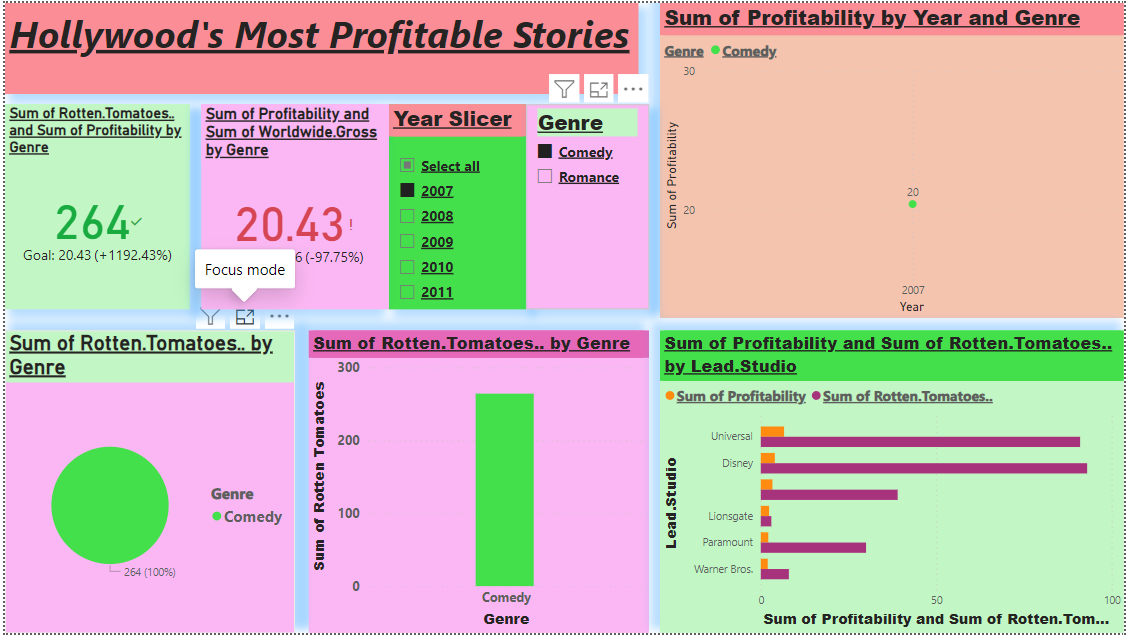

What the dashboard file says about the page in this screenshot:
{"tool":"powerbi","page":{"name":"Hollywoods Most Profitable Stories","canvas":[1280,720],"ordinal":0},"visuals":[{"type":"clusteredColumnChart","fields":{"Category":["clean_df.Genre"],"Y":["Sum(clean_df.Rotten.Tomatoes..)"]},"box":[347.1,374.3,388.6,345.7],"z":0},{"type":"lineChart","fields":{"Category":["clean_df.Year"],"Y":["Sum(clean_df.Profitability)"],"Series":["clean_df.Genre"]},"box":[748.6,0,531.4,360],"z":1},{"type":"textbox","box":[0,0,724.3,104.3],"z":2},{"type":"pieChart","fields":{"Series":["clean_df.Genre"],"Y":["Sum(clean_df.Rotten.Tomatoes..)"]},"box":[0,374.3,331.4,345.7],"z":3},{"type":"slicer","fields":{"Values":["clean_df.Genre"]},"box":[595.7,115.7,140,234.3],"z":4},{"type":"slicer","title":"Year Slicer","fields":{"Values":["clean_df.Year"]},"box":[438.6,115.7,157.1,234.3],"z":5},{"type":"kpi","fields":{"Indicator":["Sum(clean_df.Rotten.Tomatoes..)"],"Goal":["Sum(clean_df.Profitability)"],"TrendLine":["clean_df.Genre"]},"box":[0,115.7,211.4,234.3],"z":6},{"type":"kpi","fields":{"TrendLine":["clean_df.Genre"],"Indicator":["Sum(clean_df.Profitability)"],"Goal":["Sum(clean_df.Worldwide.Gross)"]},"box":[224.3,115.7,214.3,234.3],"z":7},{"type":"clusteredBarChart","fields":{"Category":["clean_df.Lead.Studio"],"Y":["Sum(clean_df.Profitability)","Sum(clean_df.Rotten.Tomatoes..)"]},"box":[748.6,374.3,531.4,345.7],"z":8}]}

Visuals, with their boxes in screenshot pixels (x1, y1, x2, y2), scaled from the page's 1280x720 canvas onto the 1127x640 screenshot:
clusteredColumnChart - clean_df.Genre x Sum(clean_df.Rotten.Tomatoes..): 306, 333, 648, 639
lineChart - clean_df.Year x Sum(clean_df.Profitability): 659, 0, 1126, 320
textbox: 0, 0, 638, 93
pieChart - clean_df.Genre x Sum(clean_df.Rotten.Tomatoes..): 0, 333, 292, 639
slicer - clean_df.Genre: 524, 103, 648, 311
"Year Slicer" slicer: 386, 103, 524, 311
kpi - Sum(clean_df.Rotten.Tomatoes..) x Sum(clean_df.Profitability): 0, 103, 186, 311
kpi - clean_df.Genre x Sum(clean_df.Profitability): 197, 103, 386, 311
clusteredBarChart - clean_df.Lead.Studio x Sum(clean_df.Profitability): 659, 333, 1126, 639
